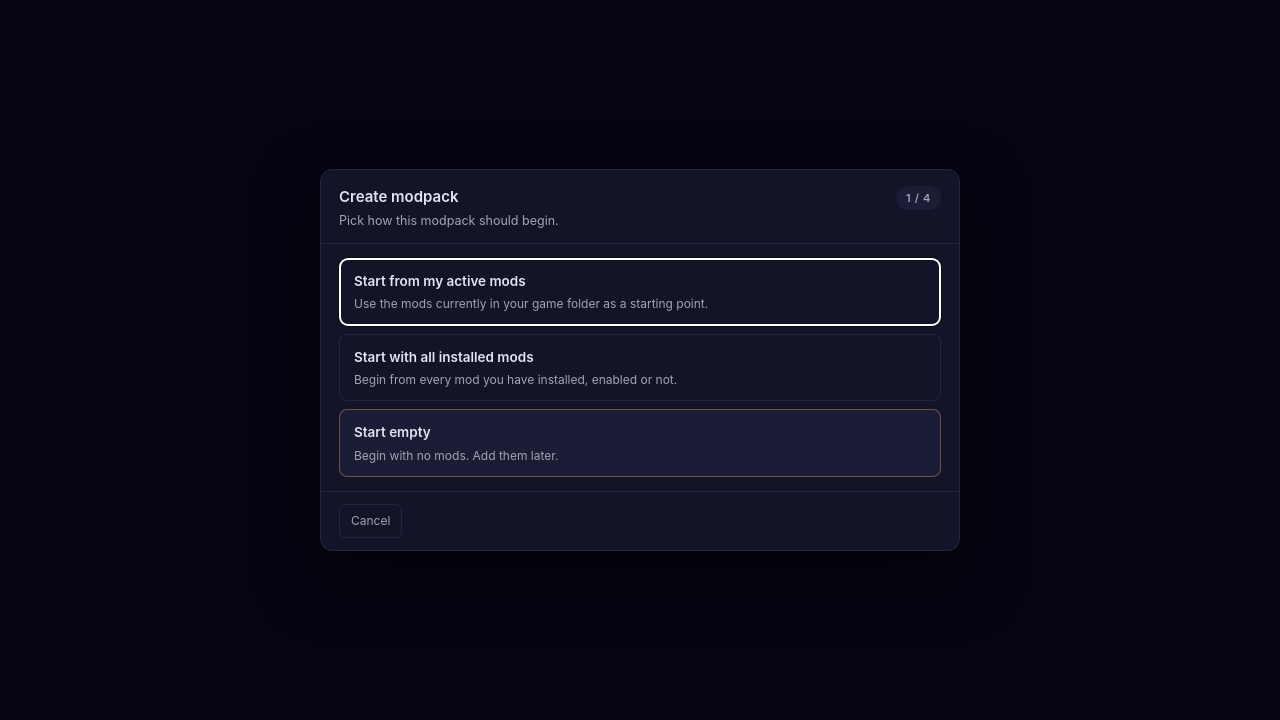
Test: <CreateModpackWizard> › back navigation › back at step 2 returns to step 1
The image size is (1280, 720).
Click the button "Start from my active mods".
click(440, 281)  # box [339,258,941,326]
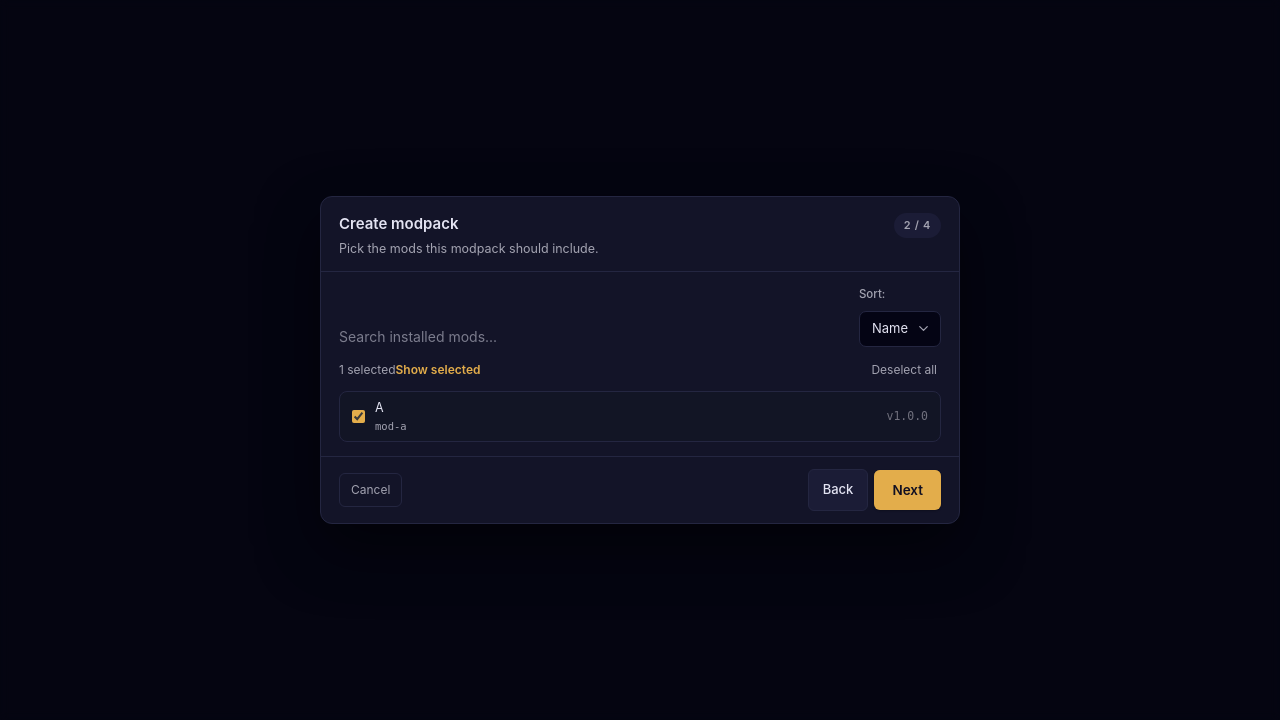
Now the field with placeholder "Search installed mods..." is shown, box [339,326,849,347]
Click the button "Back".
click(838, 490)  # box [808,469,868,511]
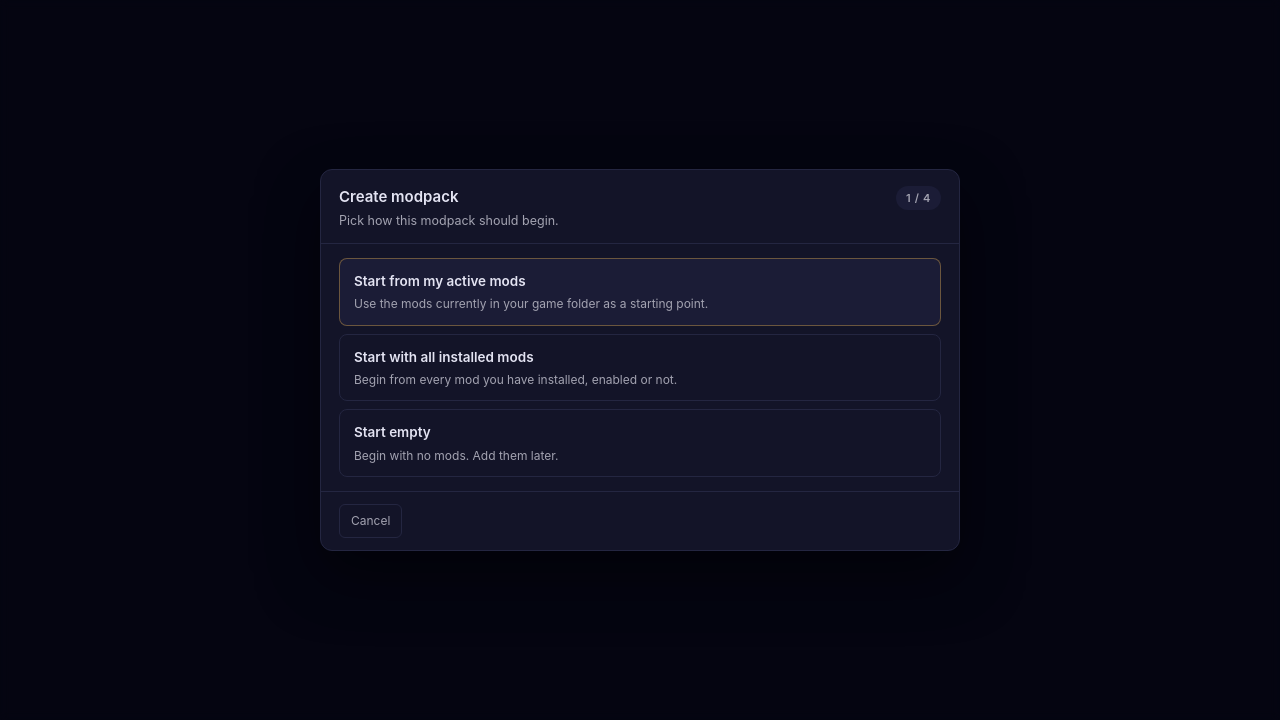
Now the button "Start from my active mods" is shown, box [339,258,941,326]
